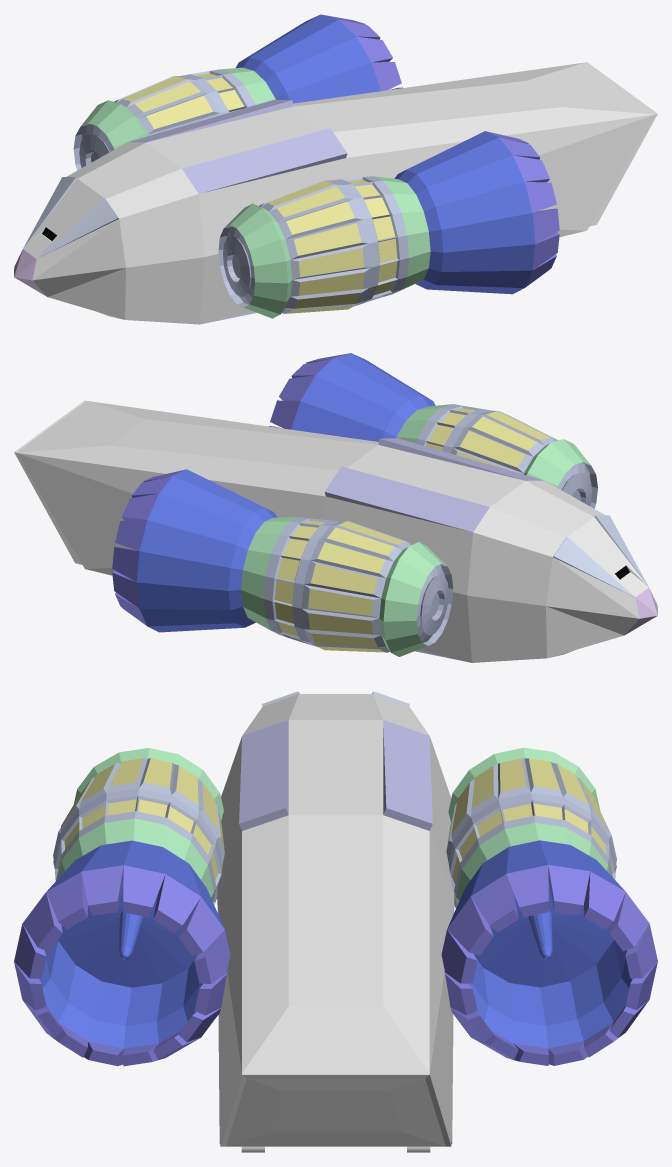
Rendered from CargoSpaceship.fbx.
3 renders of one model, top to bottom at view 1: azimuth 30°, elevation 25°; view 2: azimuth 150°, elevation 25°; view 3: azimuth 270°, elevation 25°, orthographic. The views are drawn at different scales.
Visible parts, largest first — view 1: engine_left, cargo_body, engine_right, middle_body, neck, cockpit, hatch; view 2: engine_right, cargo_body, engine_left, middle_body, neck, cockpit, hatch; view 3: cargo_body, engine_left, engine_right, middle_body, hatch, neck.
Part boxes in pixels (left/top/right/bottom): engine_left: left=218, top=131, right=559, bottom=318; cargo_body: left=293, top=62, right=655, bottom=237; engine_right: left=73, top=14, right=402, bottom=170; middle_body: left=129, top=100, right=347, bottom=324; neck: left=66, top=142, right=204, bottom=324; cockpit: left=14, top=177, right=125, bottom=319; hatch: left=585, top=62, right=657, bottom=226; engine_right: left=112, top=469, right=453, bottom=656; cargo_body: left=16, top=401, right=378, bottom=575; engine_left: left=269, top=353, right=597, bottom=508; middle_body: left=323, top=438, right=543, bottom=662; neck: left=467, top=480, right=605, bottom=662; cockpit: left=546, top=515, right=657, bottom=658; hatch: left=14, top=400, right=86, bottom=564; cargo_body: left=217, top=815, right=454, bottom=1144; engine_left: left=14, top=748, right=230, bottom=1066; engine_right: left=441, top=747, right=657, bottom=1065; middle_body: left=217, top=720, right=454, bottom=902; hatch: left=220, top=1073, right=451, bottom=1146; neck: left=242, top=694, right=429, bottom=735.
Size of the model in its own units: 793 by 549 by 207.
